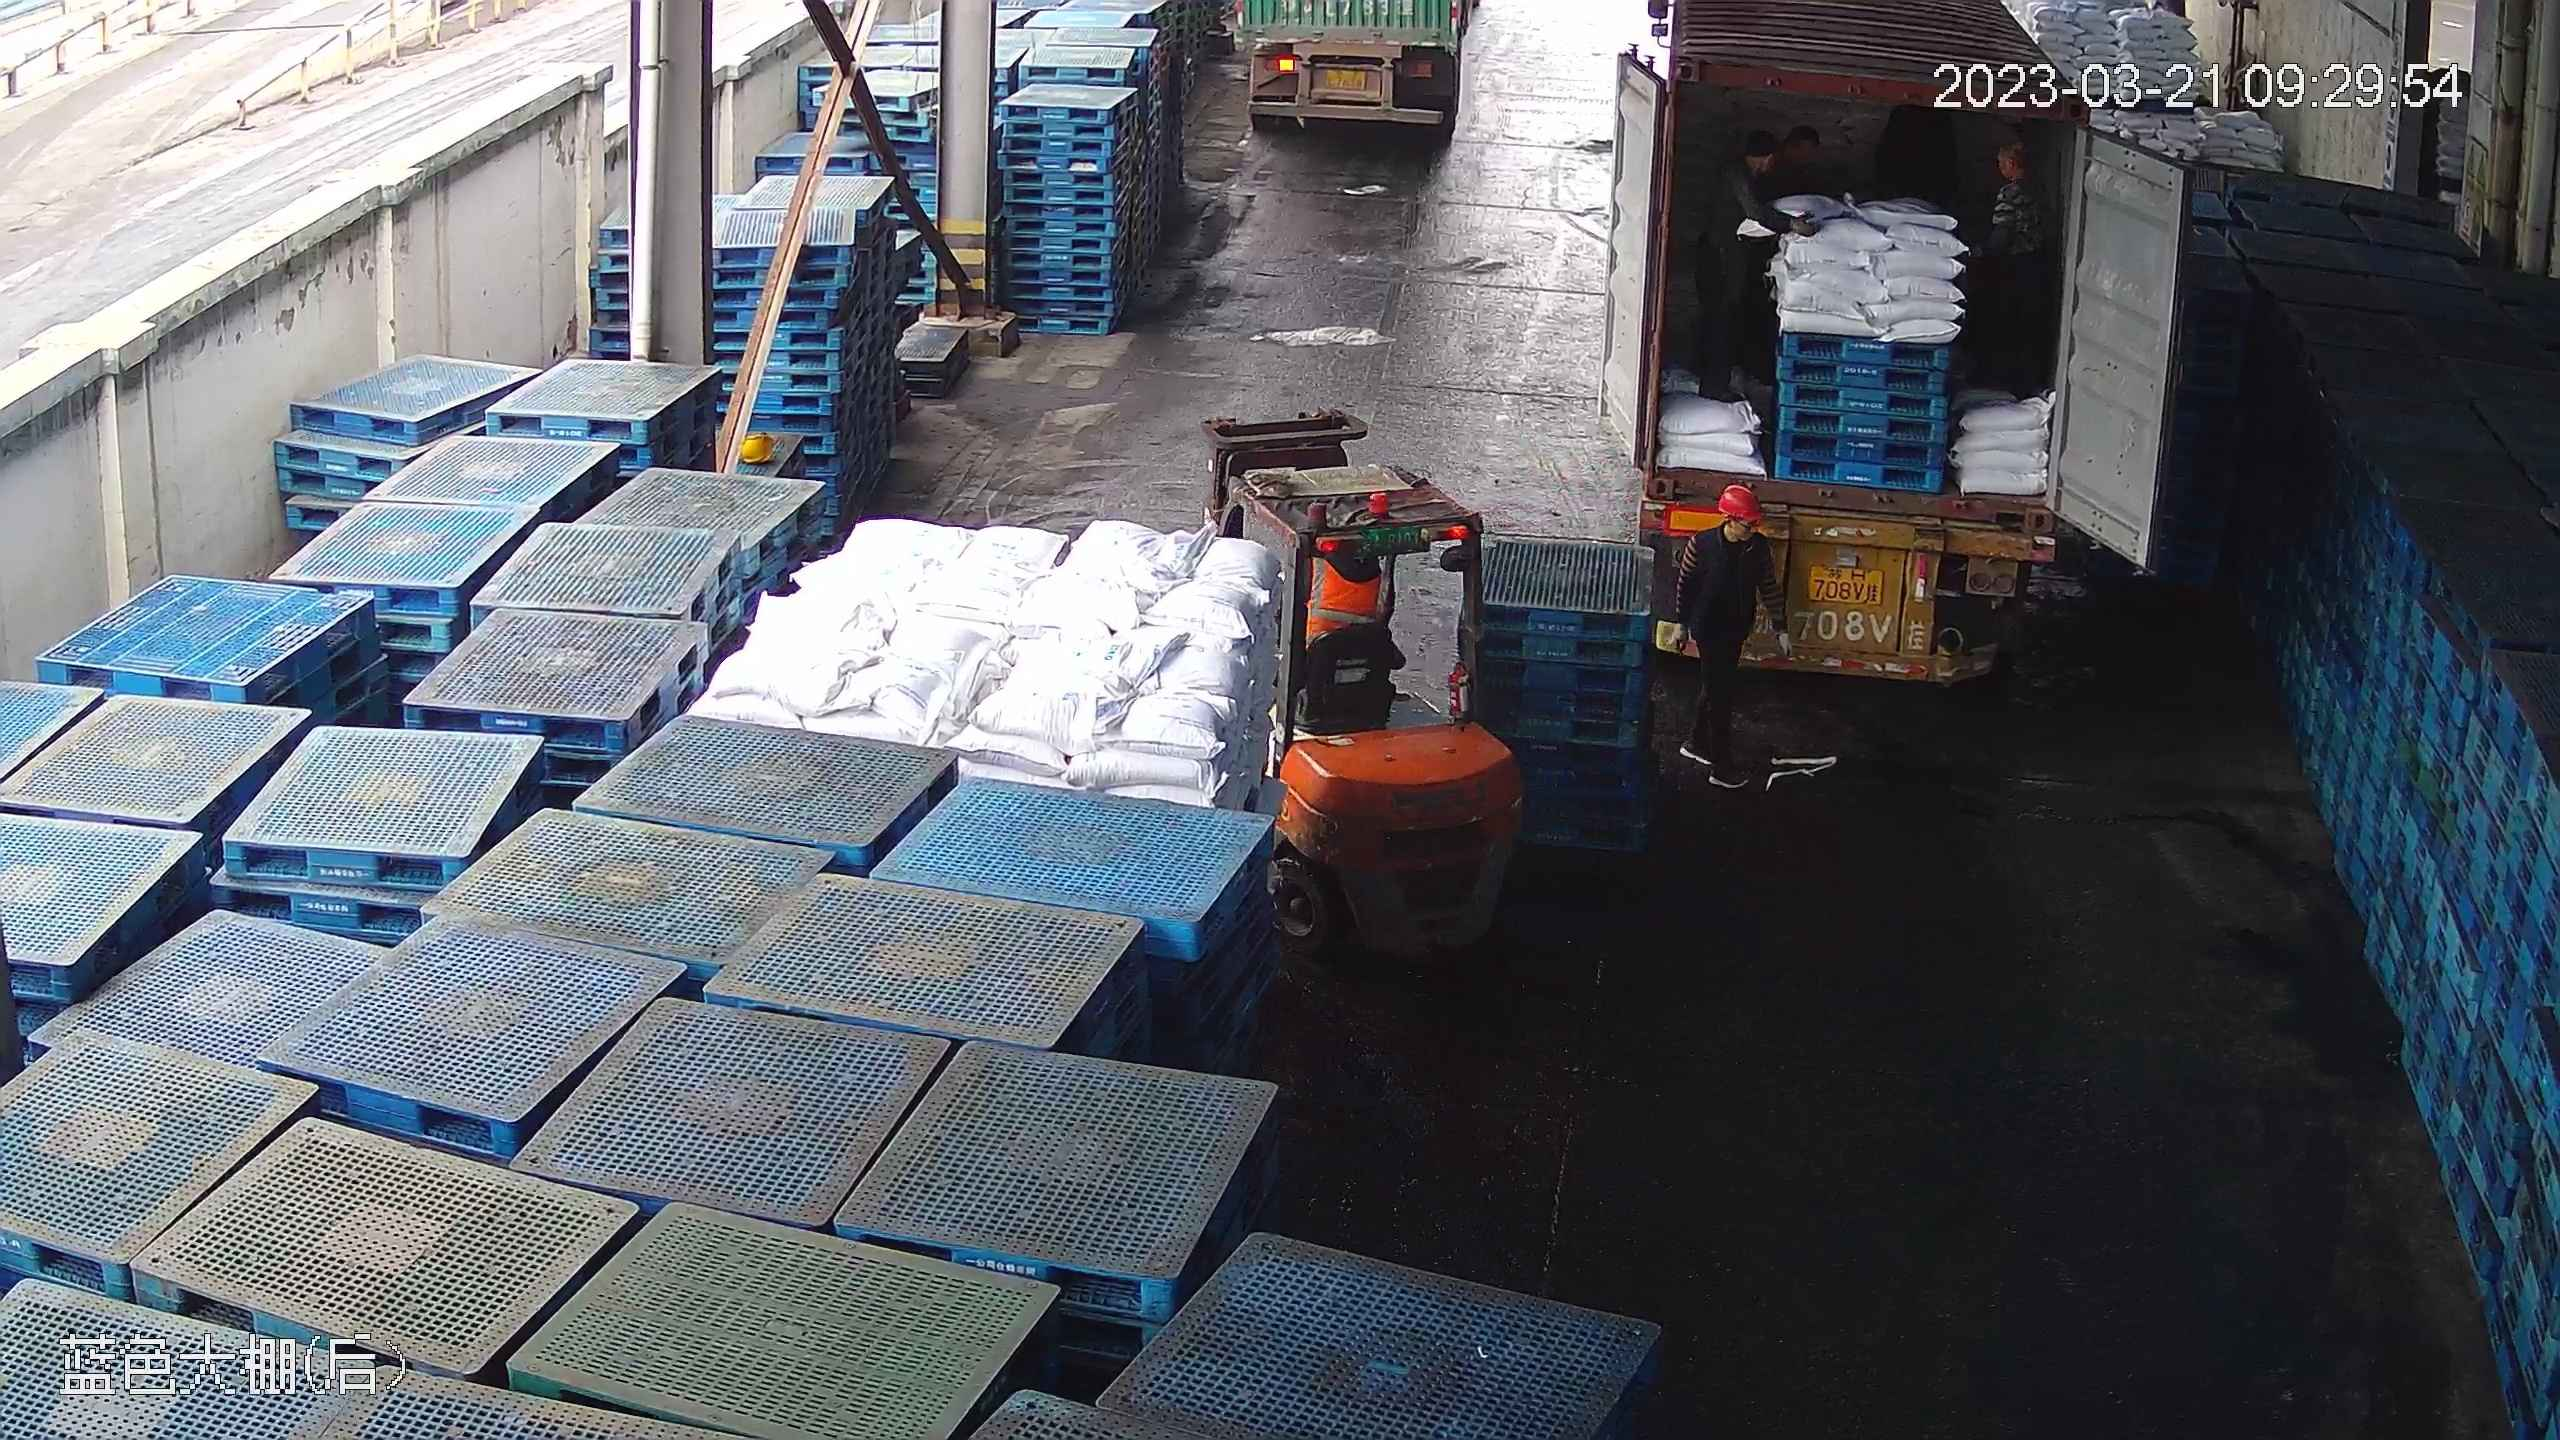head: (1692, 482, 1771, 575)
helmet: (734, 431, 778, 466), (1715, 481, 1757, 517)
people: (1670, 483, 1785, 786)
truck: (1608, 6, 2095, 710), (1219, 2, 1478, 135)
